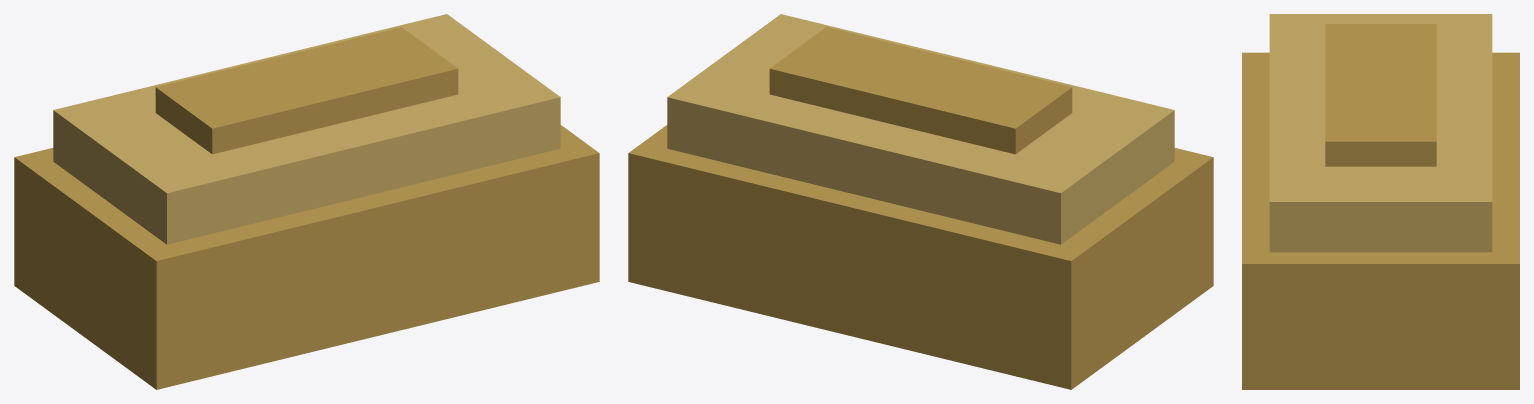
The model's file is finance-02.glb.
The picture shows the model from 3 angles, left to right: view 1: azimuth 30°, elevation 25°; view 2: azimuth 150°, elevation 25°; view 3: azimuth 270°, elevation 25°; orthographic projection. The views are drawn at different scales.
Parts seen in each view (by area): view 1: Gold bullion; view 2: Gold bullion; view 3: Gold bullion.
Boxes of the visible parts, box(x1,y1,x2,y2) form: Gold bullion: box(14, 14, 599, 389); Gold bullion: box(628, 14, 1213, 389); Gold bullion: box(1242, 14, 1519, 389).
Bounding box in the file's own units: 1.44 × 0.64 × 0.8.
